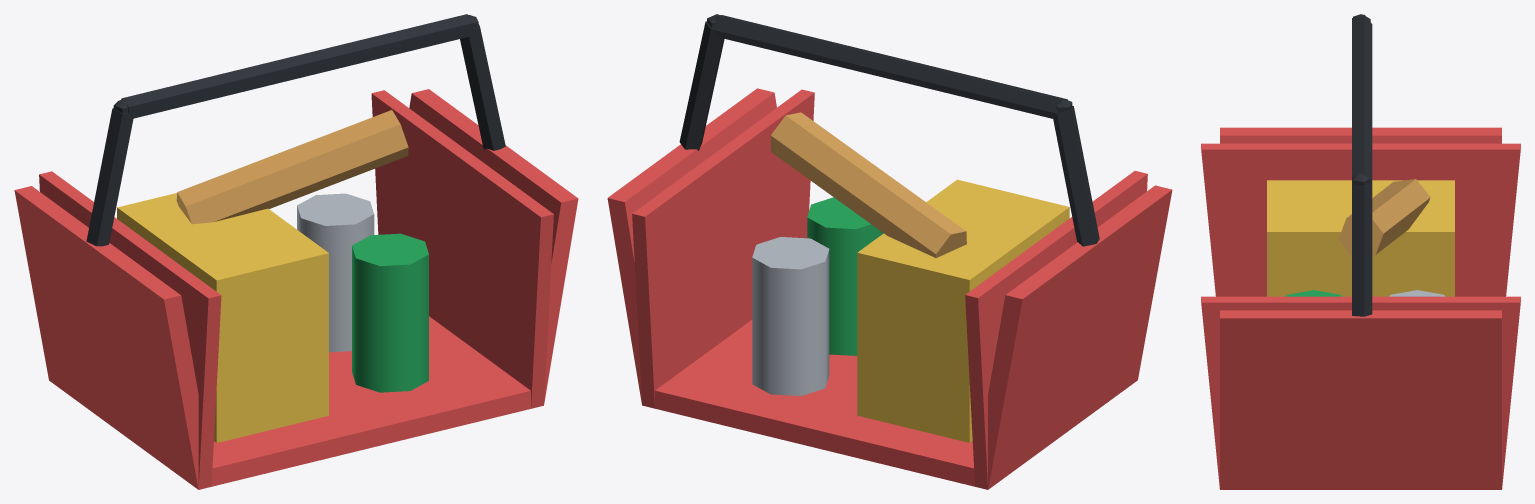
File: shopping_basket.glb
The picture shows the model from 3 angles, left to right: view 1: azimuth 30°, elevation 25°; view 2: azimuth 150°, elevation 25°; view 3: azimuth 270°, elevation 25°; orthographic projection. The views are drawn at different scales.
Parts seen in each view (by area): view 1: shopping_basket; view 2: shopping_basket; view 3: shopping_basket.
Part boxes in pixels (x1,y1,x2,y2): shopping_basket: [14, 14, 578, 489]; shopping_basket: [607, 14, 1172, 489]; shopping_basket: [1201, 14, 1520, 489].
Bounding box in the file's own units: 0.4823 × 0.372 × 0.34.
